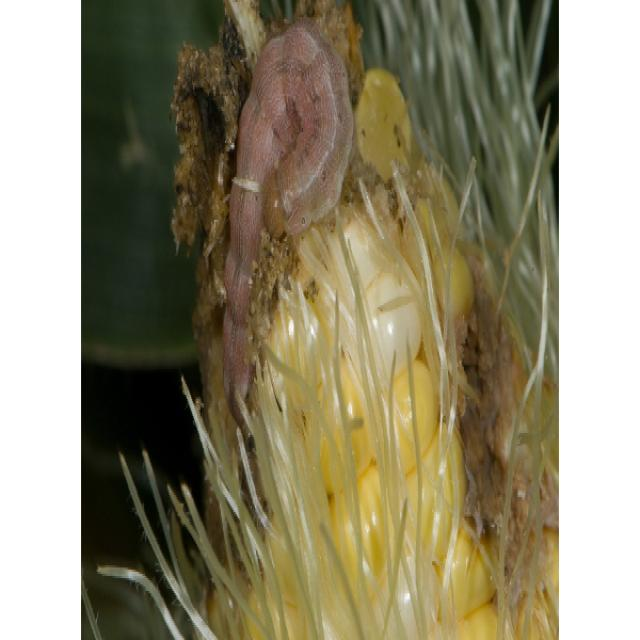Corn-earworm: (222, 18, 351, 415)
